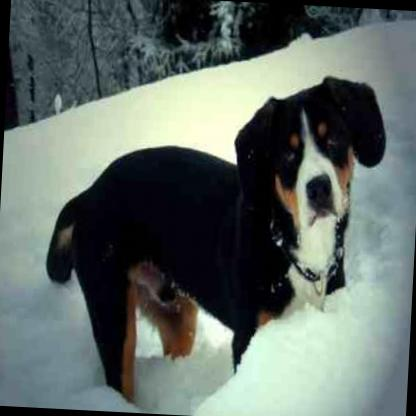EntleBucher: (37, 60, 390, 411)
